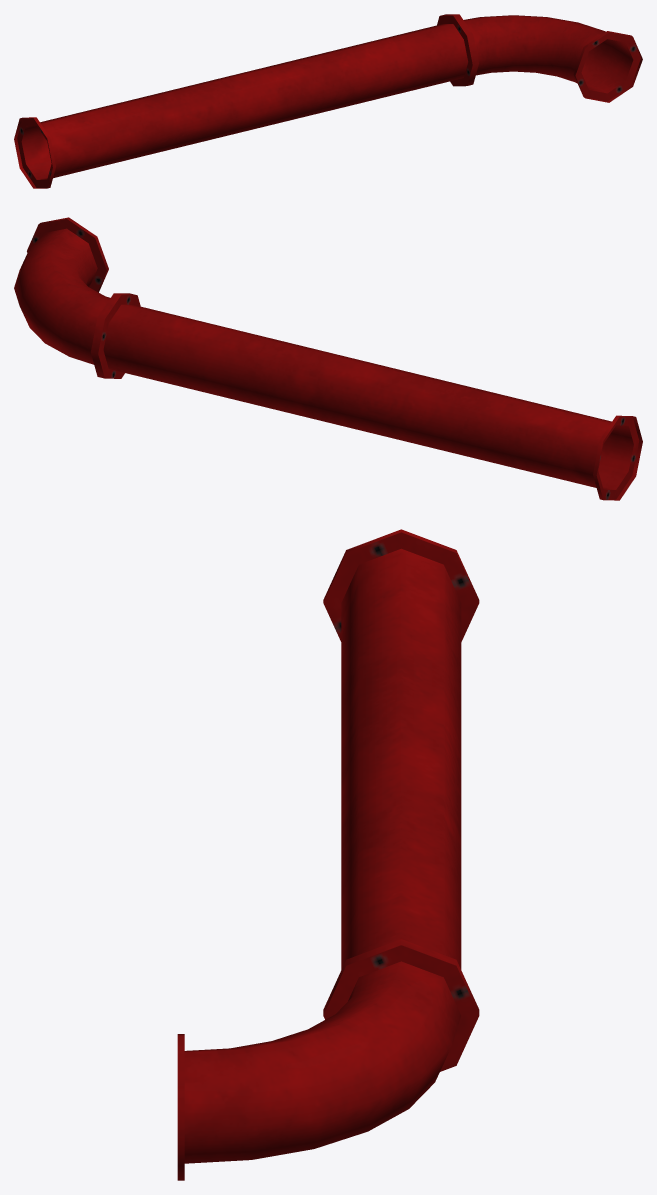
File: PipeBig_BigCorner.FBX
3 views of the same model, one above another, from view 1: azimuth 30°, elevation 25°; view 2: azimuth 150°, elevation 25°; view 3: azimuth 270°, elevation 25° (orthographic). The views are drawn at different scales.
Parts seen in each view (by area): view 1: PipeBig_BigCorner; view 2: PipeBig_BigCorner; view 3: PipeBig_BigCorner.
Boxes of the visible parts, bbox=[...] form: PipeBig_BigCorner: bbox=[14, 14, 642, 188]; PipeBig_BigCorner: bbox=[14, 217, 642, 500]; PipeBig_BigCorner: bbox=[177, 529, 479, 1180].
Size of the model in its own units: 41.93 by 5.12 by 9.9.
